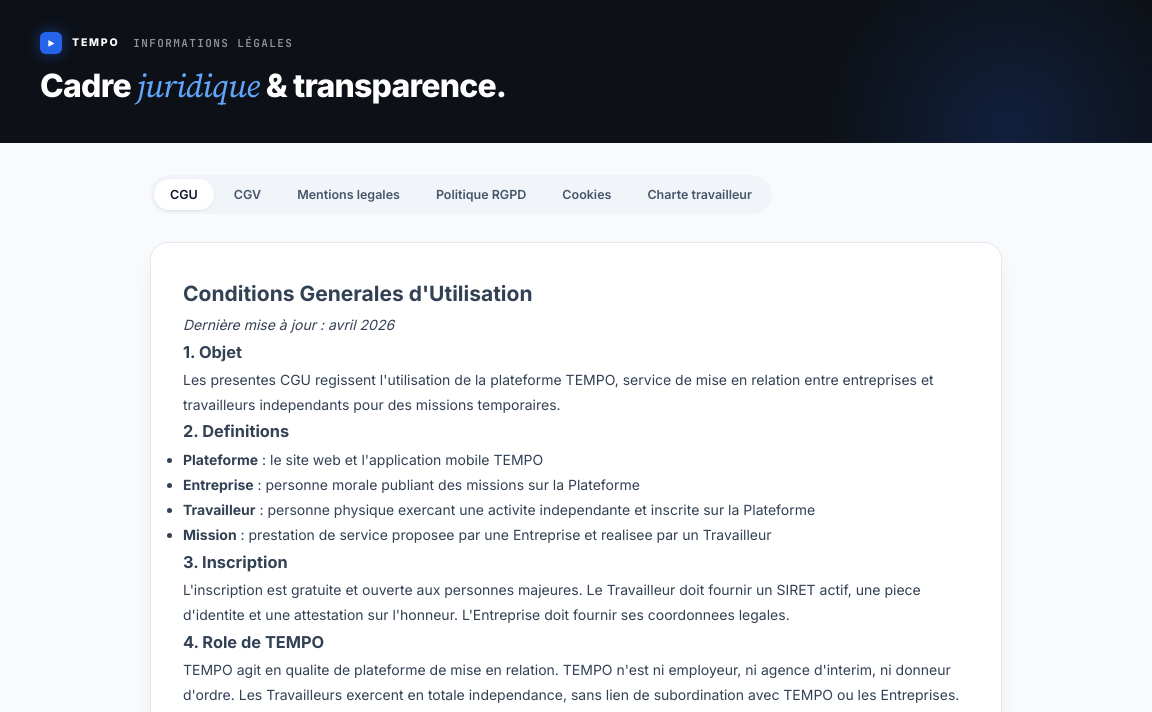
Test: Legal page › switches to Mentions legales tab on click
Click the button "Mentions legales" at (349, 194), box [281,179,416,210]
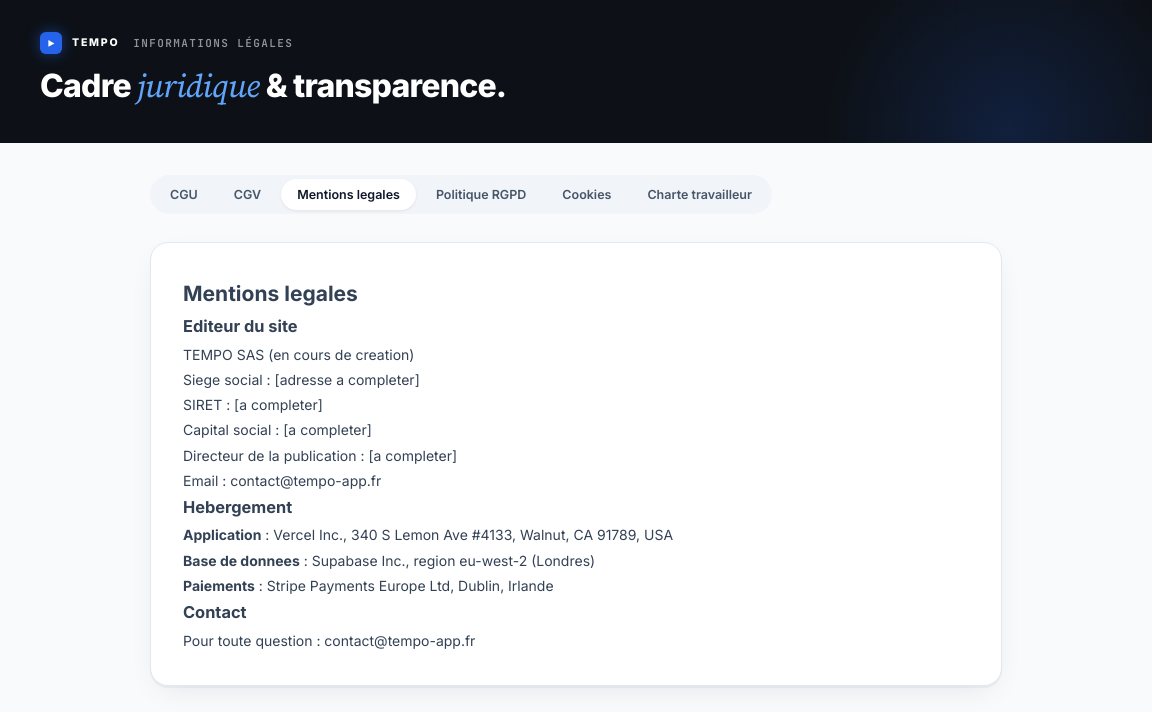
Now the heading "Mentions legales" is shown, box [183,281,358,306]
